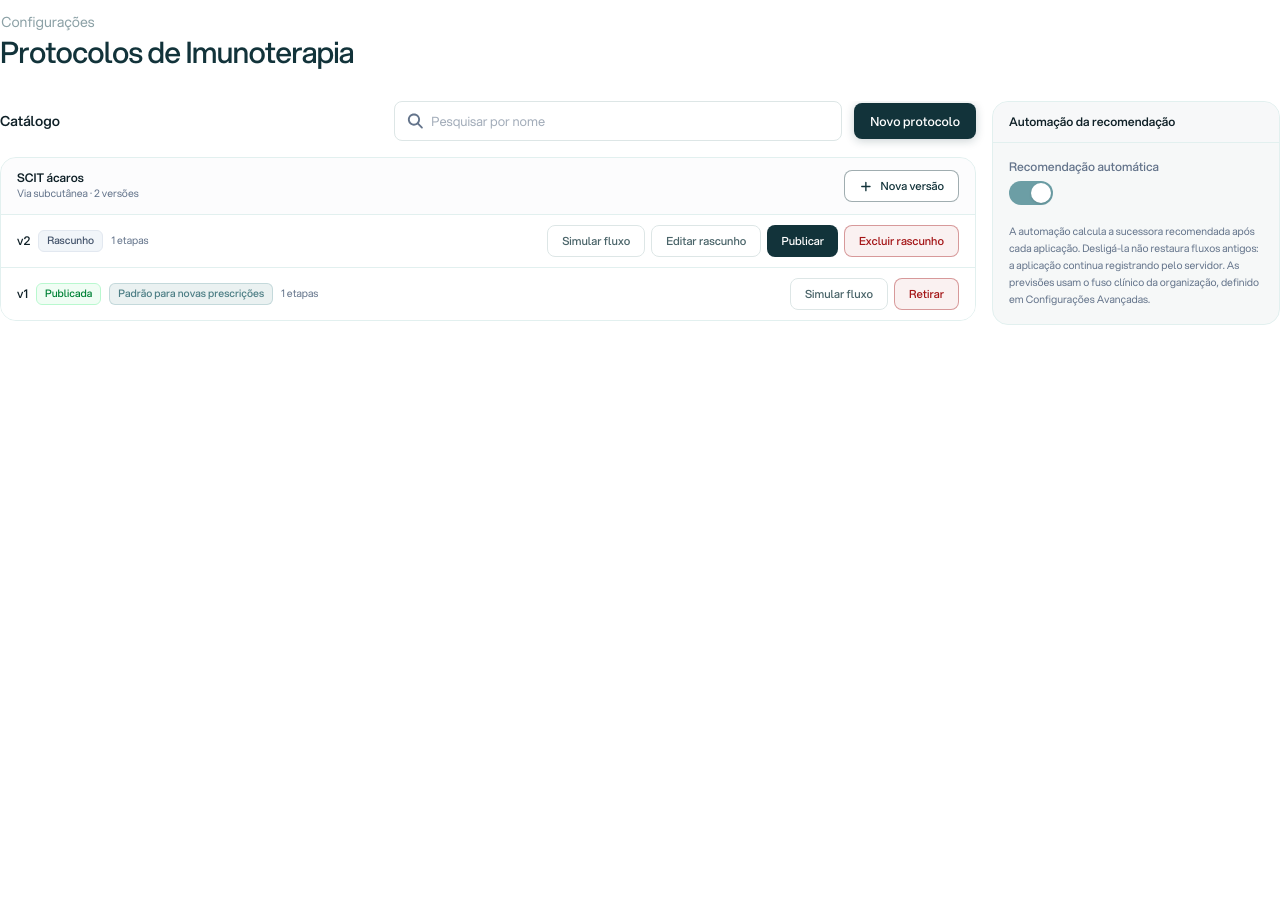
Test: decisão por código de erro › recusa de publicação (403) exibe feedback e preserva a intenção
The image size is (1280, 900).
Expected: the heading "SCIT ácaros" is shown, [17, 169, 84, 186]
Click the button "Publicar" at (803, 241), box [767, 225, 838, 257]
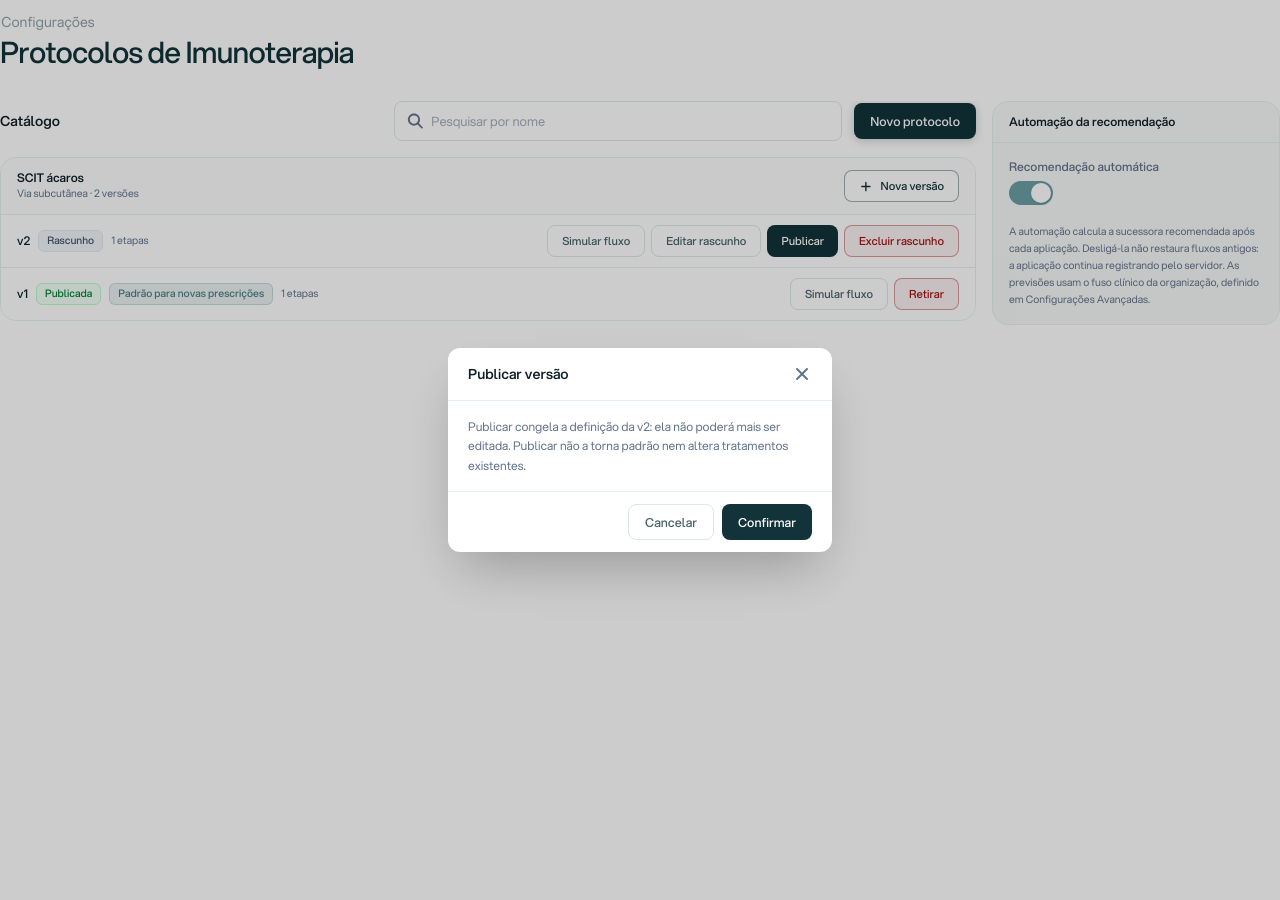
Click the button "Confirmar" at (767, 522), box [722, 504, 812, 540]
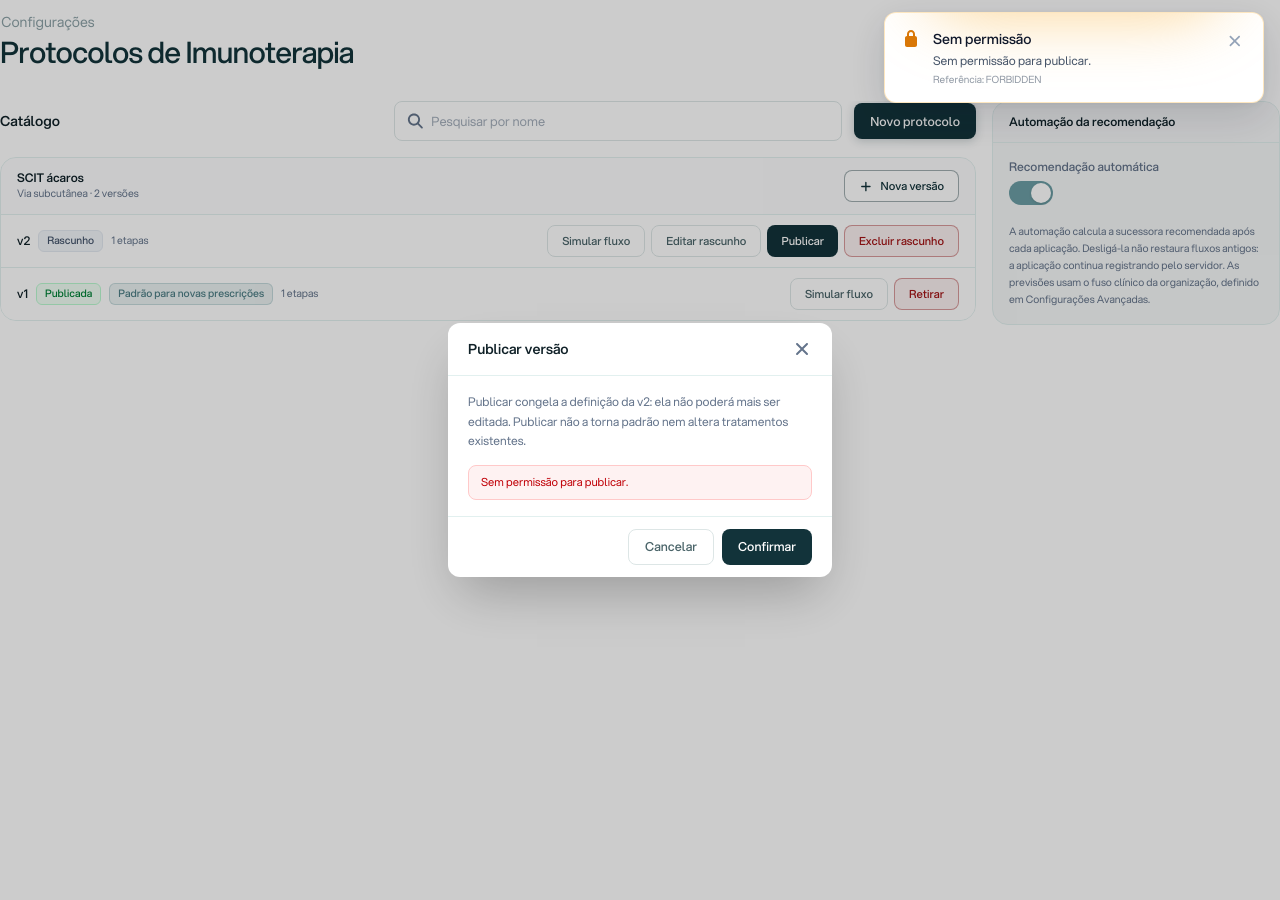
Now the button "Confirmar" is shown, box [722, 529, 812, 565]
Now the message "Sem permissão para publicar." is shown, box [468, 465, 812, 500]
